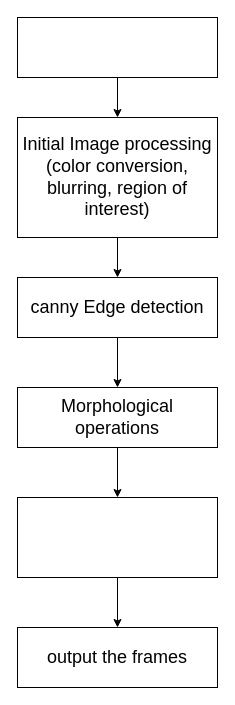
Some shapes in this 235 by 705 pixel diagram are drawn without their labels. The shapes that lost their labels are listed below. From the top down, each one's box as (x1, y1, x2, y2) in pixels, then its label:
(16, 16, 218, 78): capture frames from video
(16, 496, 218, 578): contour detections sort contours and displaying
